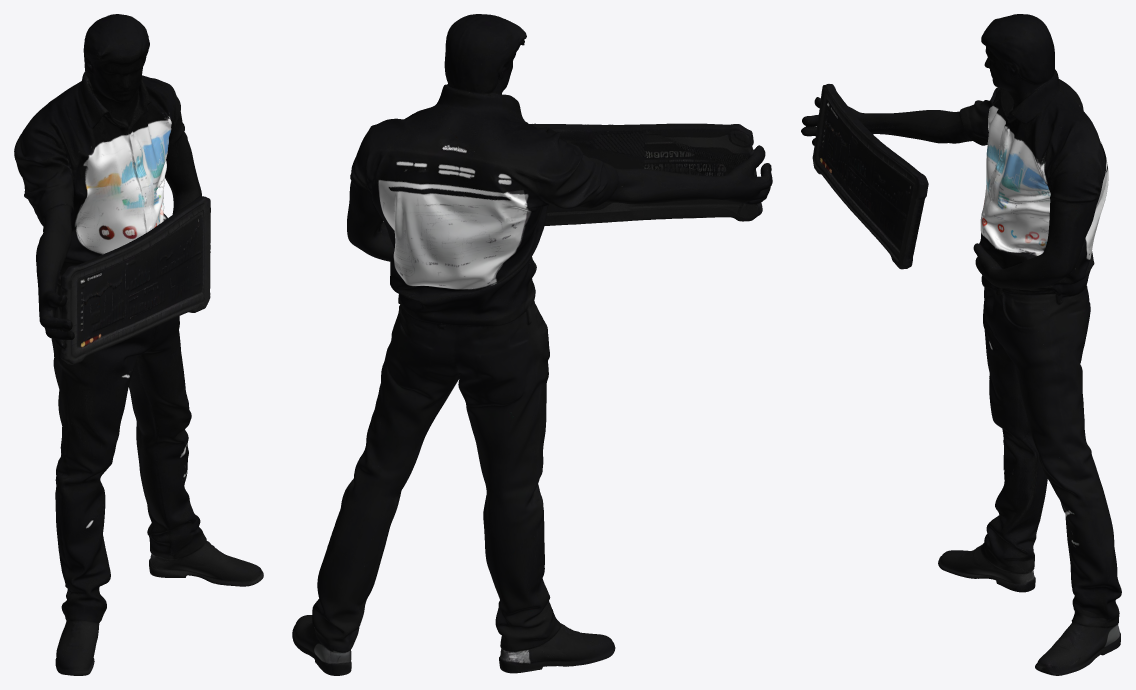
Rendered from tablet.glb.
3 views of the same model, side by side, from view 1: azimuth 30°, elevation 25°; view 2: azimuth 150°, elevation 25°; view 3: azimuth 270°, elevation 25° (orthographic). The views are drawn at different scales.
Bounding box in the file's own units: 1.09 × 1.9 × 0.9432.
Materials: 1 (1 with a texture image).
